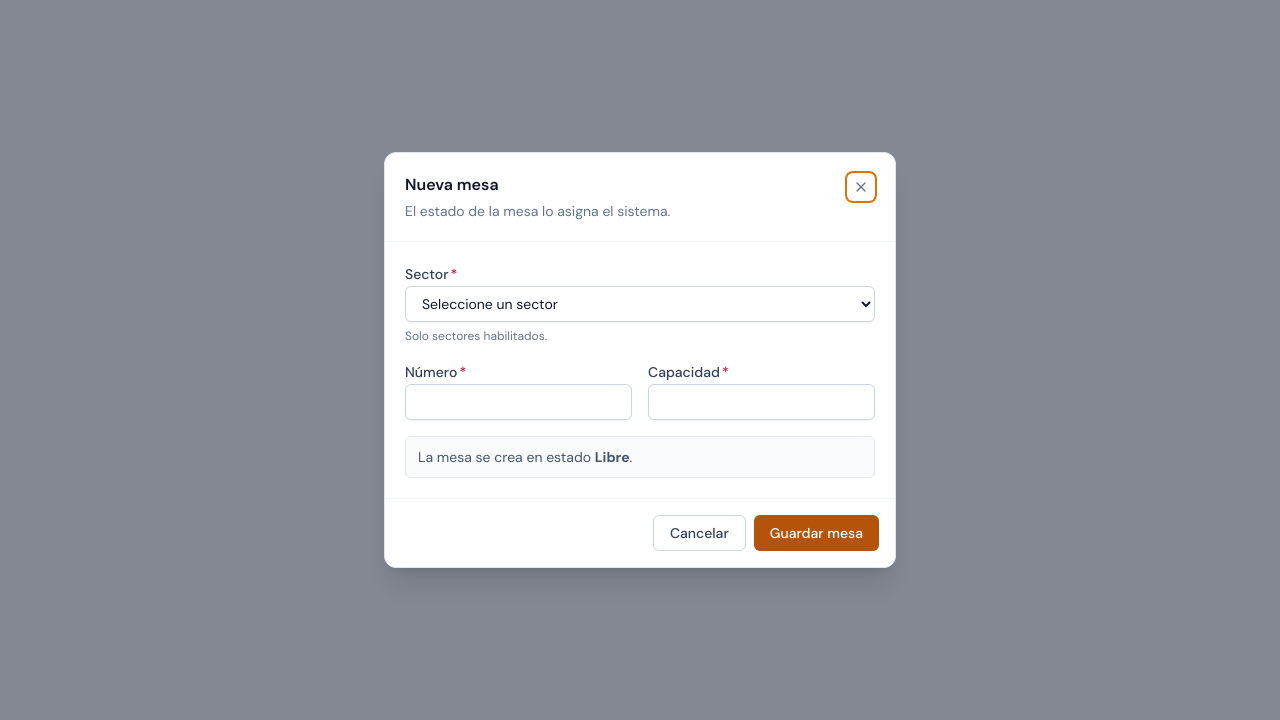
MesaFormDialog: campos y estado › con un número inválido advierte y no envía (CA 5)
Type "0" into the field labelled "Número*" at coordinates (518, 402), box [405,384,632,420]
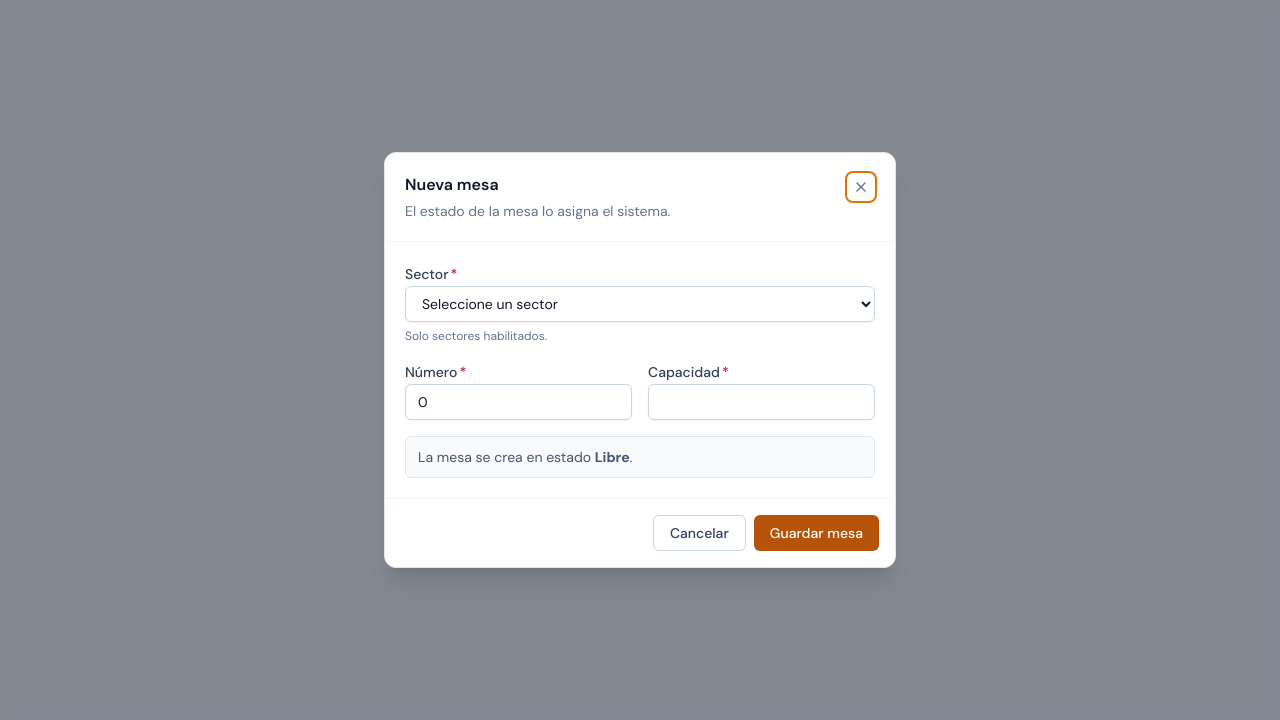
Type "4" into the field labelled "Capacidad*" at coordinates (762, 402), box [648,384,875,420]
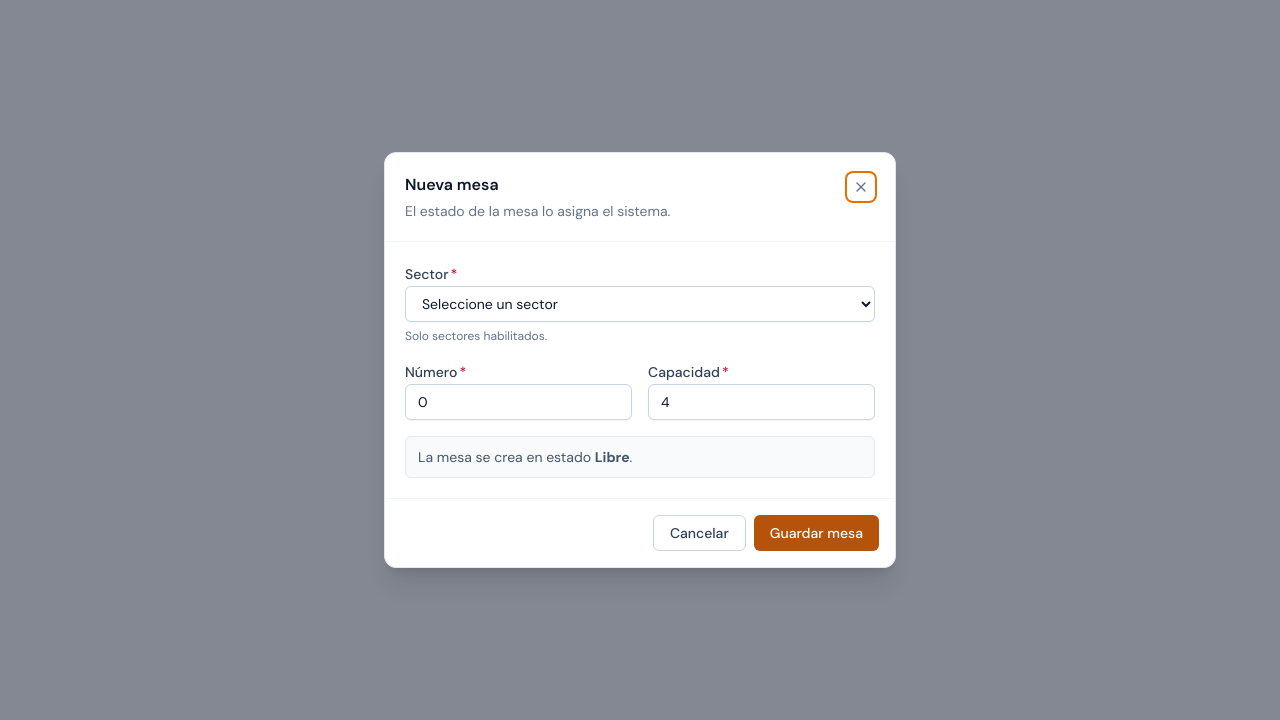
Select "Salón principal" in the dropdown labelled "Sector*" at coordinates (640, 304), box [405,286,875,322]
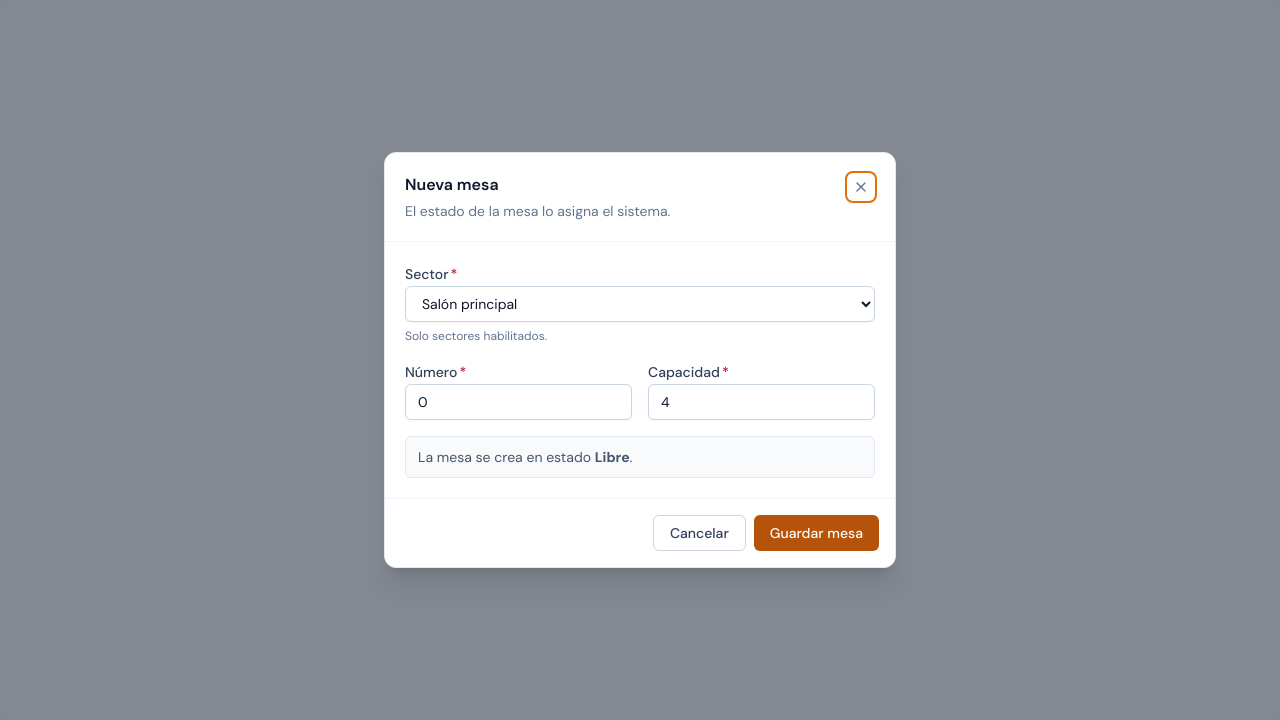
Click the button "Guardar mesa" at coordinates (816, 533), box [754,515,879,551]
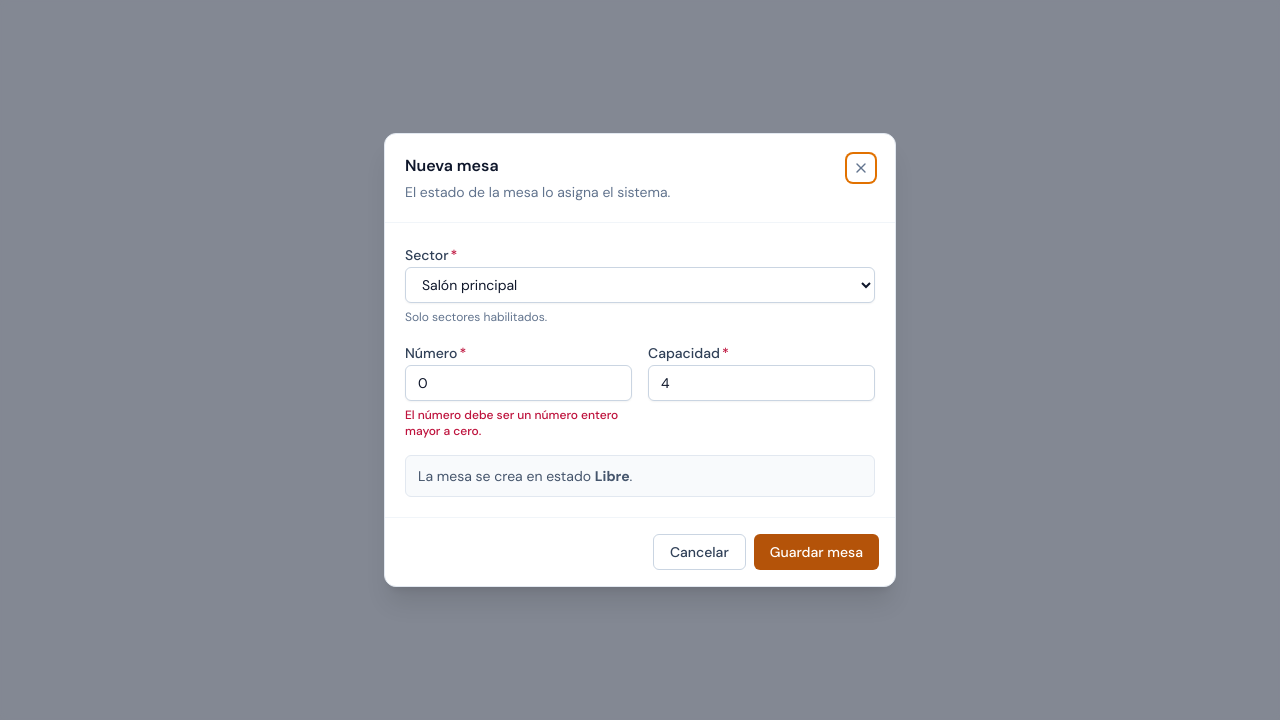
Check: the text "El número debe ser un número entero mayor a cero." is shown, box [405,407,632,439]
